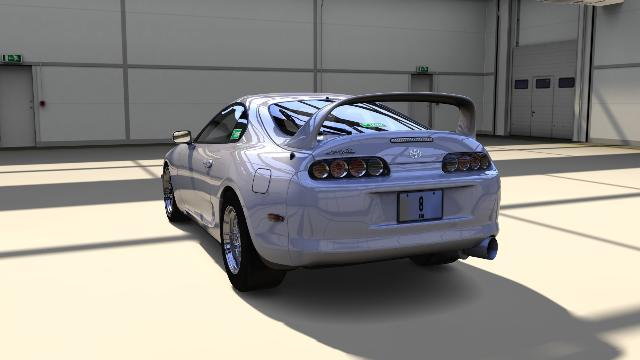License Plate: (397, 190, 443, 224)
